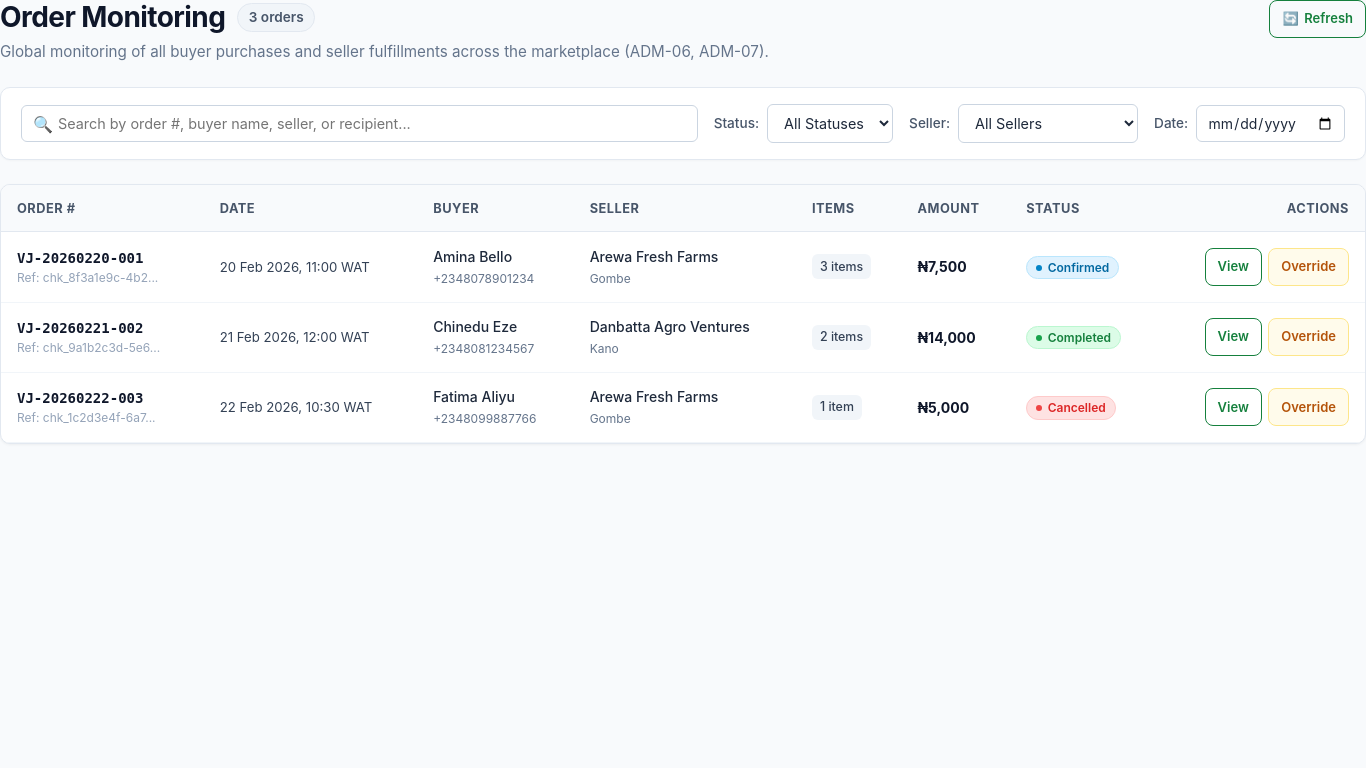
Test: FE-101 / FE-102 (ADM-06, ADM-07): Admin Orders Monitoring & Status Override › 3. Order Details Modal View (ADM-06, Figma Section 14) › displays cancellation reason notice in modal for cancelled orders
Click the button with test id "view-order-btn-3" at (1233, 407), box top-left (1204, 388), bottom-right (1262, 426)
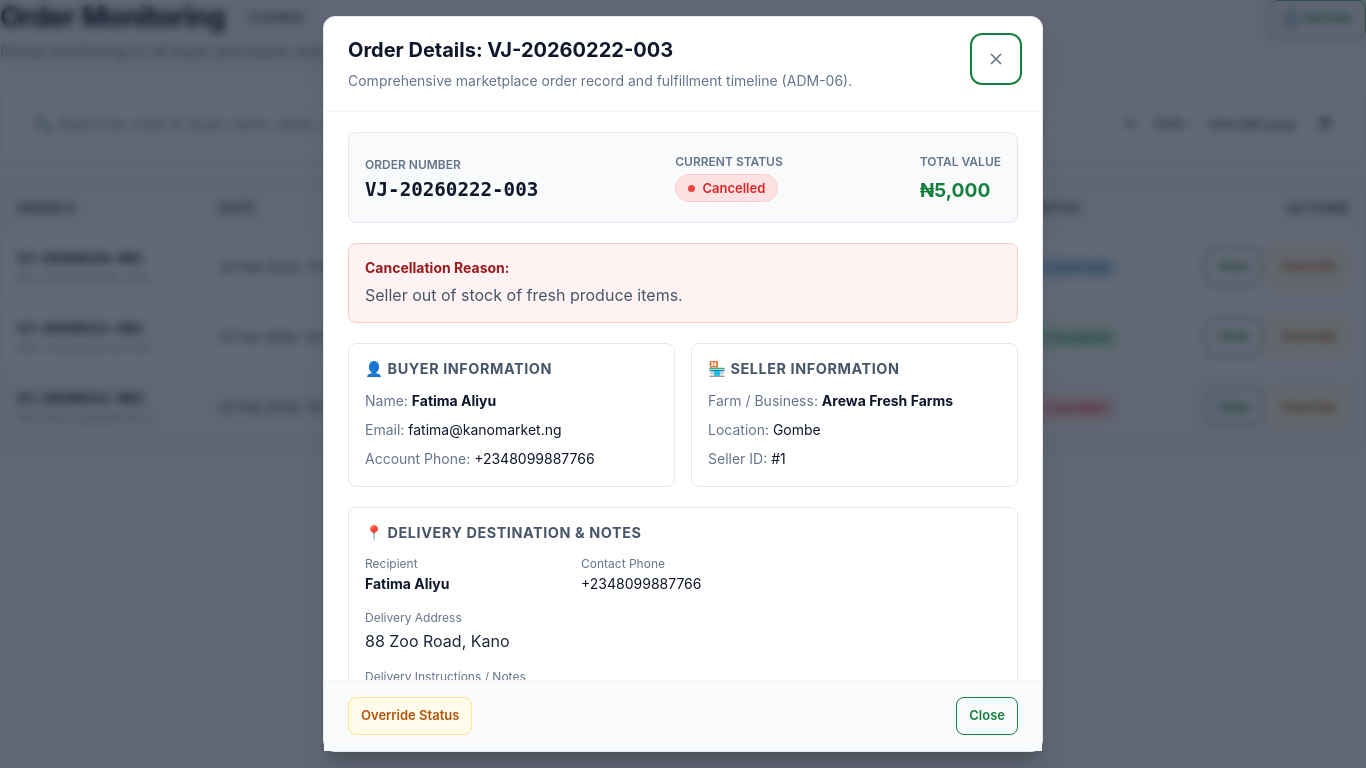
Result: the dialog with test id "view-order-modal" is shown at top-left (323, 16), bottom-right (1043, 752)
Result: the element with test id "modal-cancel-reason-block" is shown at top-left (348, 243), bottom-right (1018, 323)
Result: the element with test id "modal-cancel-reason-block" shows "Seller out of stock of fresh produce items." at top-left (365, 285), bottom-right (683, 305)
